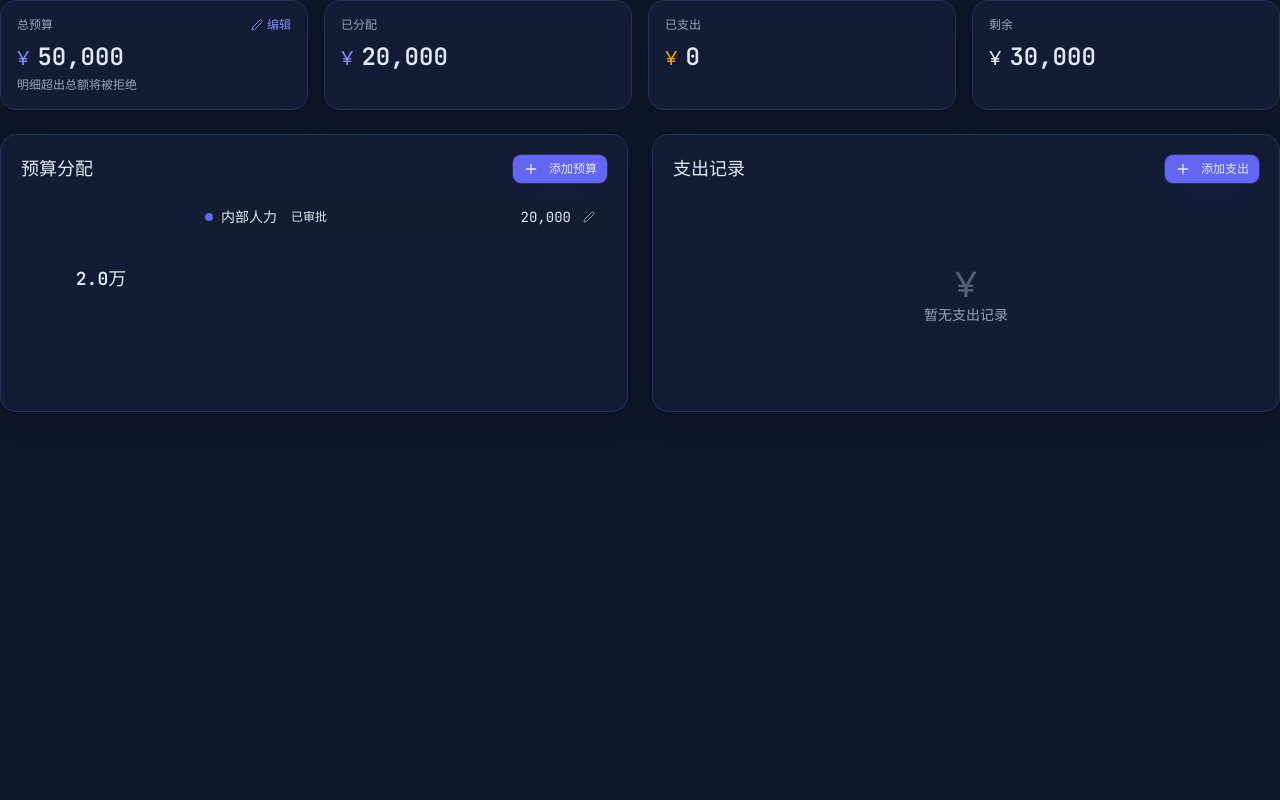
Test: 预算面板全链路（金额输入 E2E） › 新建预算：默认选中首个未被占用的类别，键入「3.5万」→ createBudget 收到 35000 且弹窗关闭
Click the button "添加预算" at (560, 169), box x1=513 y1=155 x2=607 y2=183
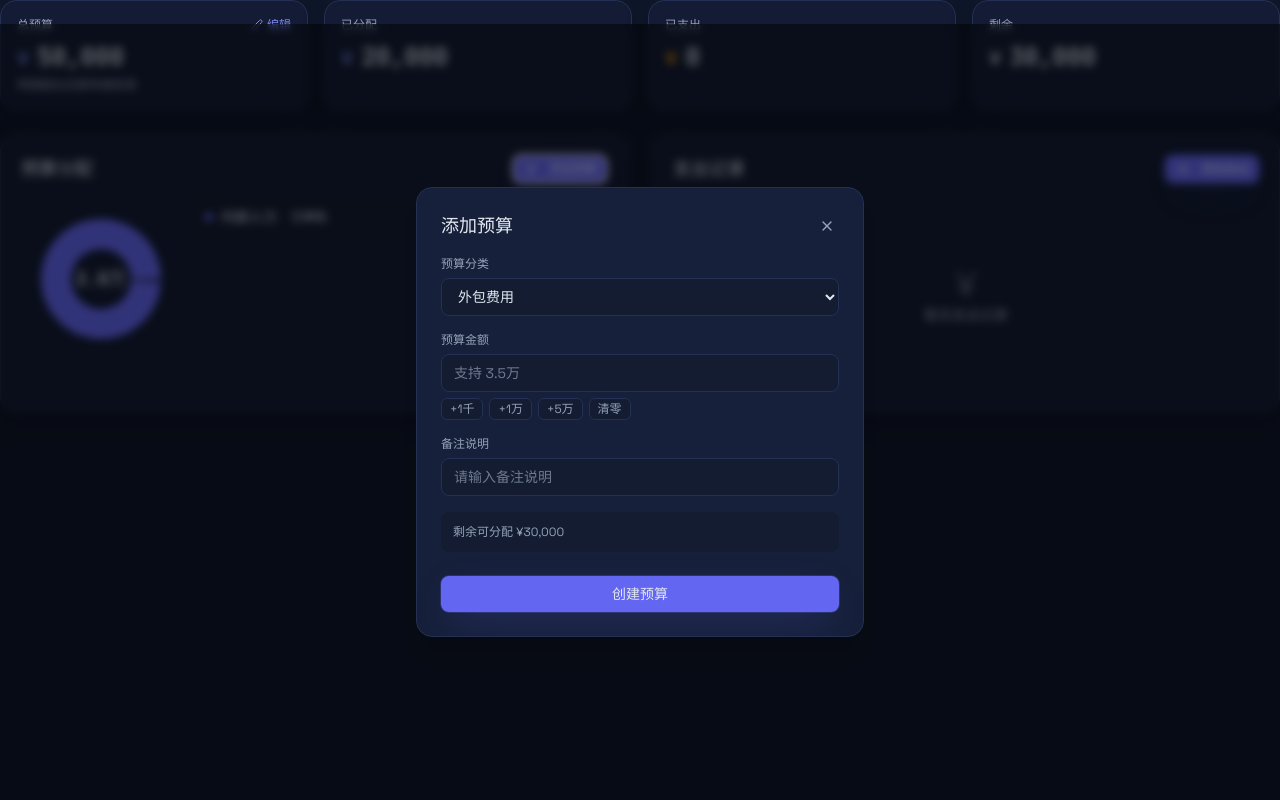
Expected: the dropdown showing "外包费用" is shown, x1=441 y1=278 x2=839 y2=316
Type "3.5万" into the field with placeholder "支持 3.5万" at (640, 373), box x1=441 y1=354 x2=839 y2=392
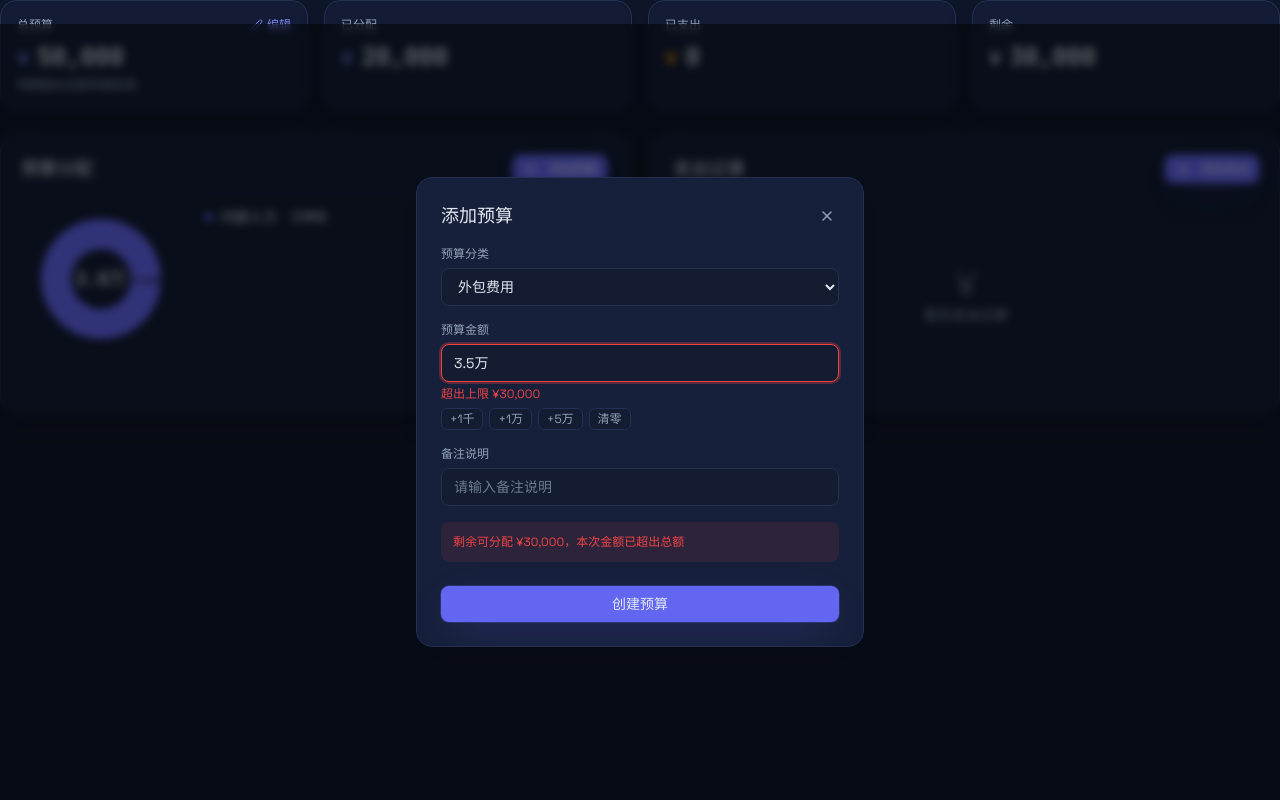
Type "UI 设计外包" into the field with placeholder "请输入备注说明" at (640, 487), box x1=441 y1=468 x2=839 y2=506
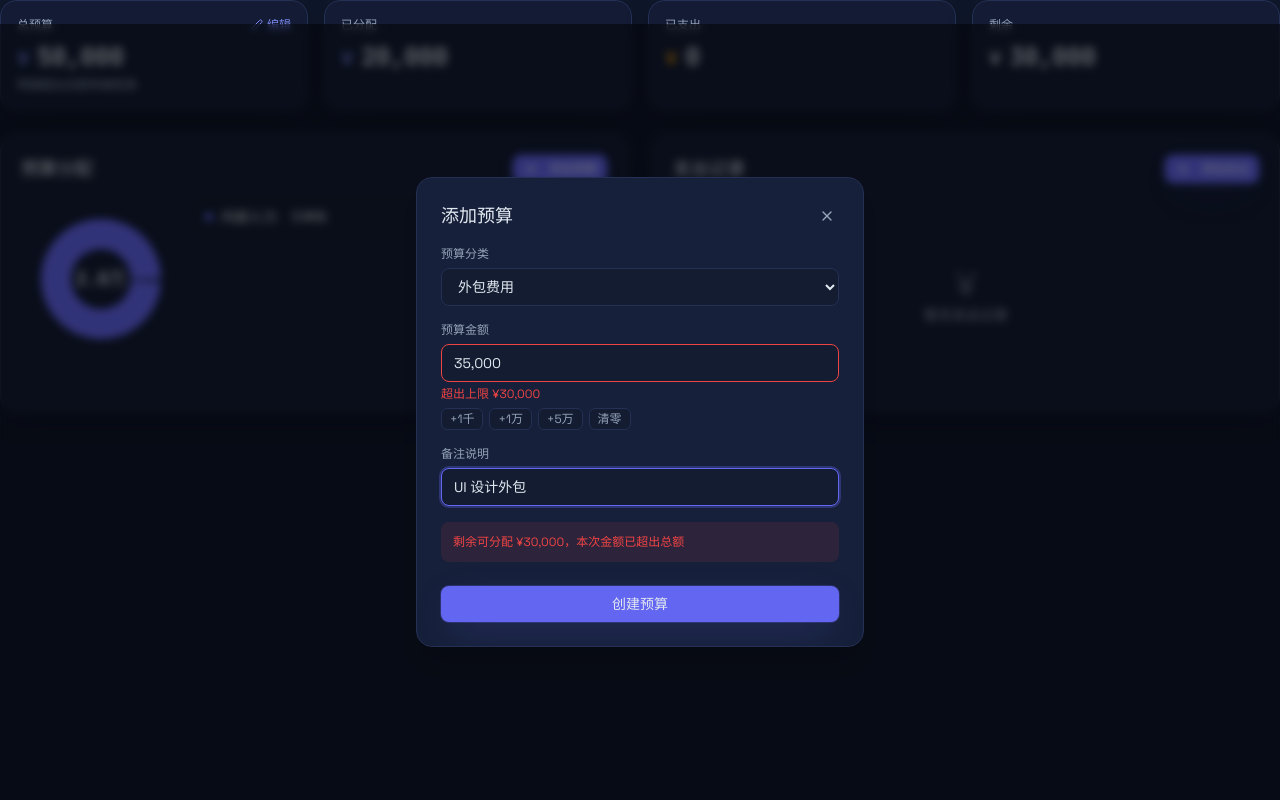
Click the button "创建预算" at (640, 604), box x1=441 y1=586 x2=839 y2=622
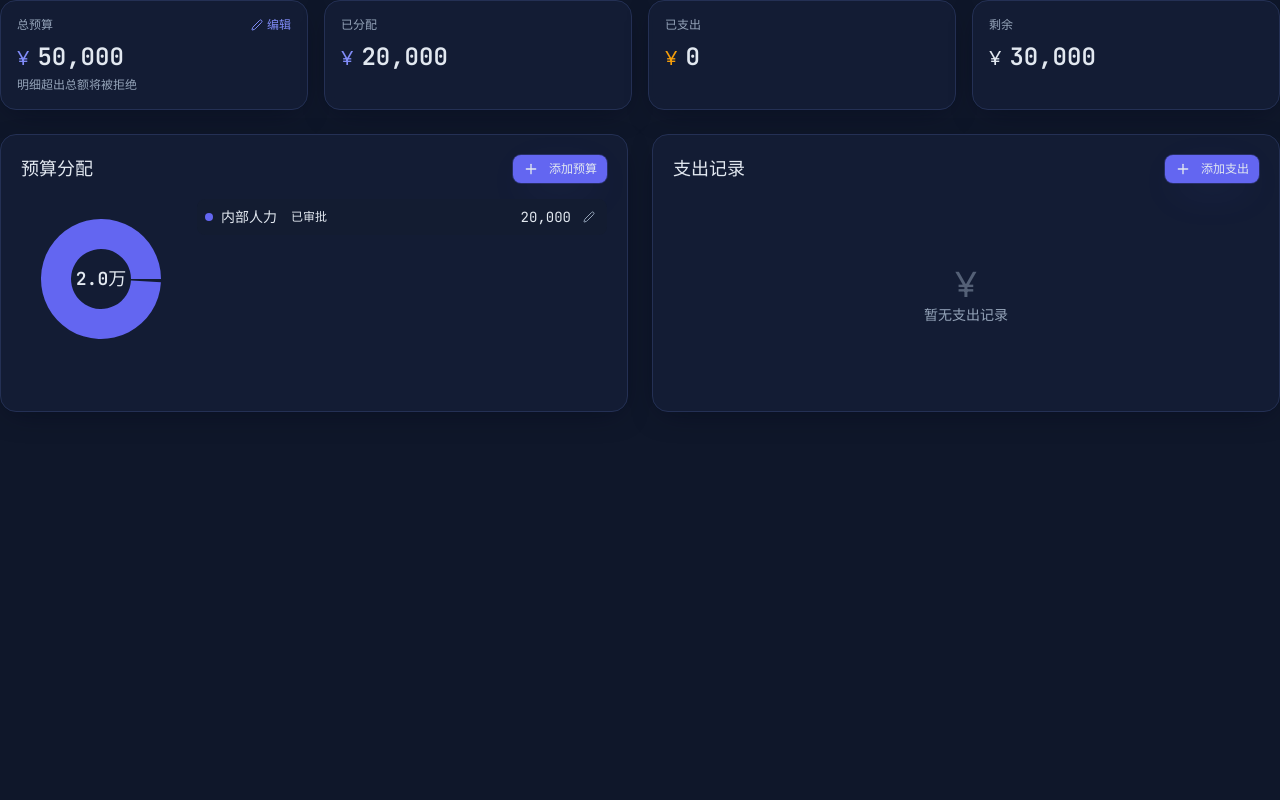
Expected: the button "创建预算" is gone
